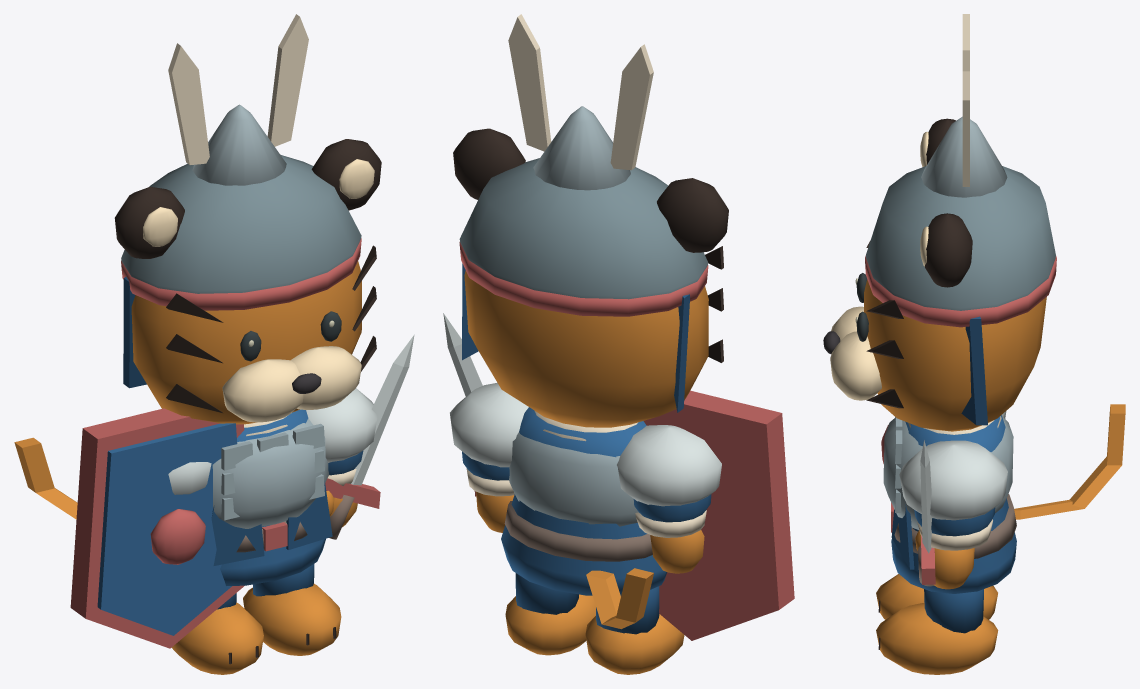
Rendered from guard.glb.
3 renders of one model, left to right at view 1: azimuth 30°, elevation 25°; view 2: azimuth 150°, elevation 25°; view 3: azimuth 270°, elevation 25°, orthographic. The views are drawn at different scales.
Parts seen in each view (by area): view 1: Regional helmet, Regional shield face, Animal cheek head, Shield gold rim, Rounded breastplate, Soft animal paw.001, Goguryeo pointed crown, Soft animal paw, Tiger white muzzle, Helmet brow band, Short folded tunic, Feather plume.001 (+19 smaller); view 2: Regional helmet, Animal cheek head, Shield gold rim, Short folded tunic, Rounded breastplate, Big shoulder armour, Goguryeo pointed crown, Big shoulder armour.001, Helmet brow band, Tiger round ear, Soft animal paw, Soft animal paw.001 (+17 smaller); view 3: Regional helmet, Animal cheek head, Big shoulder armour.001, Soft animal paw.001, Short folded tunic, Goguryeo pointed crown, Helmet brow band, Tiger round ear.001, Curved animal tail, Tiger white muzzle.001, Rounded breastplate, Stubby trouser.001 (+13 smaller).
Part boxes in pixels (x1,y1,x2,y2): Regional helmet: (121,154,361,293); Regional shield face: (97,423,237,635); Animal cheek head: (131,261,361,424); Shield gold rim: (70,408,244,648); Rounded breastplate: (212,418,329,528); Soft animal paw.001: (243,583,341,655); Goguryeo pointed crown: (192,104,286,185); Soft animal paw: (171,602,263,674); Tiger white muzzle: (222,359,303,422); Helmet brow band: (121,238,361,310); Short folded tunic: (220,409,325,585); Feather plume.001: (267,14,308,146); Regional helmet: (459,158,708,299); Animal cheek head: (464,271,708,427); Shield gold rim: (643,390,794,640); Short folded tunic: (501,407,666,595); Rounded breastplate: (509,432,638,526); Big shoulder armour: (617,425,721,506); Goguryeo pointed crown: (533,106,630,190); Big shoulder armour.001: (450,382,528,467); Helmet brow band: (459,242,708,316); Tiger round ear: (657,178,728,252); Soft animal paw: (585,614,684,674); Soft animal paw.001: (505,594,595,655); Regional helmet: (866,166,1055,310); Animal cheek head: (864,279,1046,431); Big shoulder armour.001: (899,440,1007,520); Soft animal paw.001: (876,603,998,674); Short folded tunic: (891,415,1016,593); Goguryeo pointed crown: (921,116,1007,197); Helmet brow band: (865,255,1056,327); Tiger round ear.001: (924,213,972,287); Curved animal tail: (1014,404,1125,519); Tiger white muzzle.001: (830,331,881,400); Rounded breastplate: (883,416,1013,529); Stubby trouser.001: (924,589,983,633).
Bounding box in the file's own units: 1.12 × 1.98 × 0.89.
